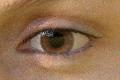eye: (41, 30, 74, 53)
